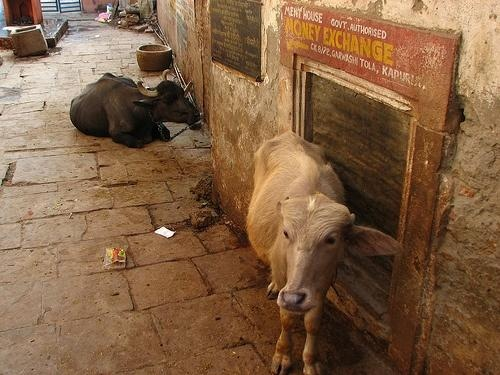cow: (244, 130, 404, 375), (69, 73, 205, 153)
